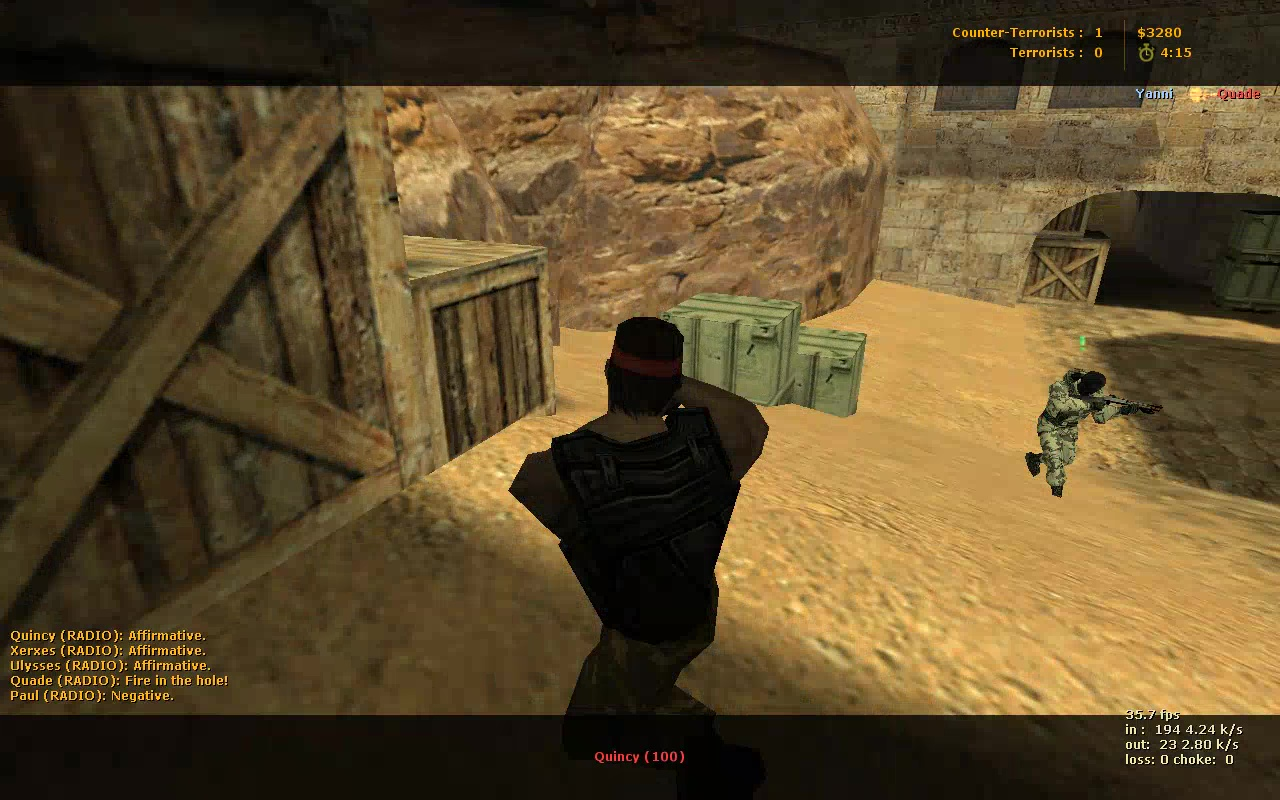terr1: (516, 313, 772, 775)
terr2: (1025, 366, 1134, 496)
